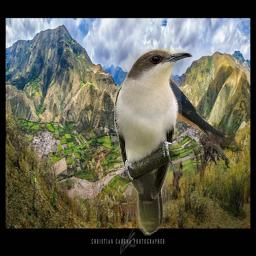Cuckoo: (114, 49, 193, 236)
Swallow: (150, 69, 237, 167)
